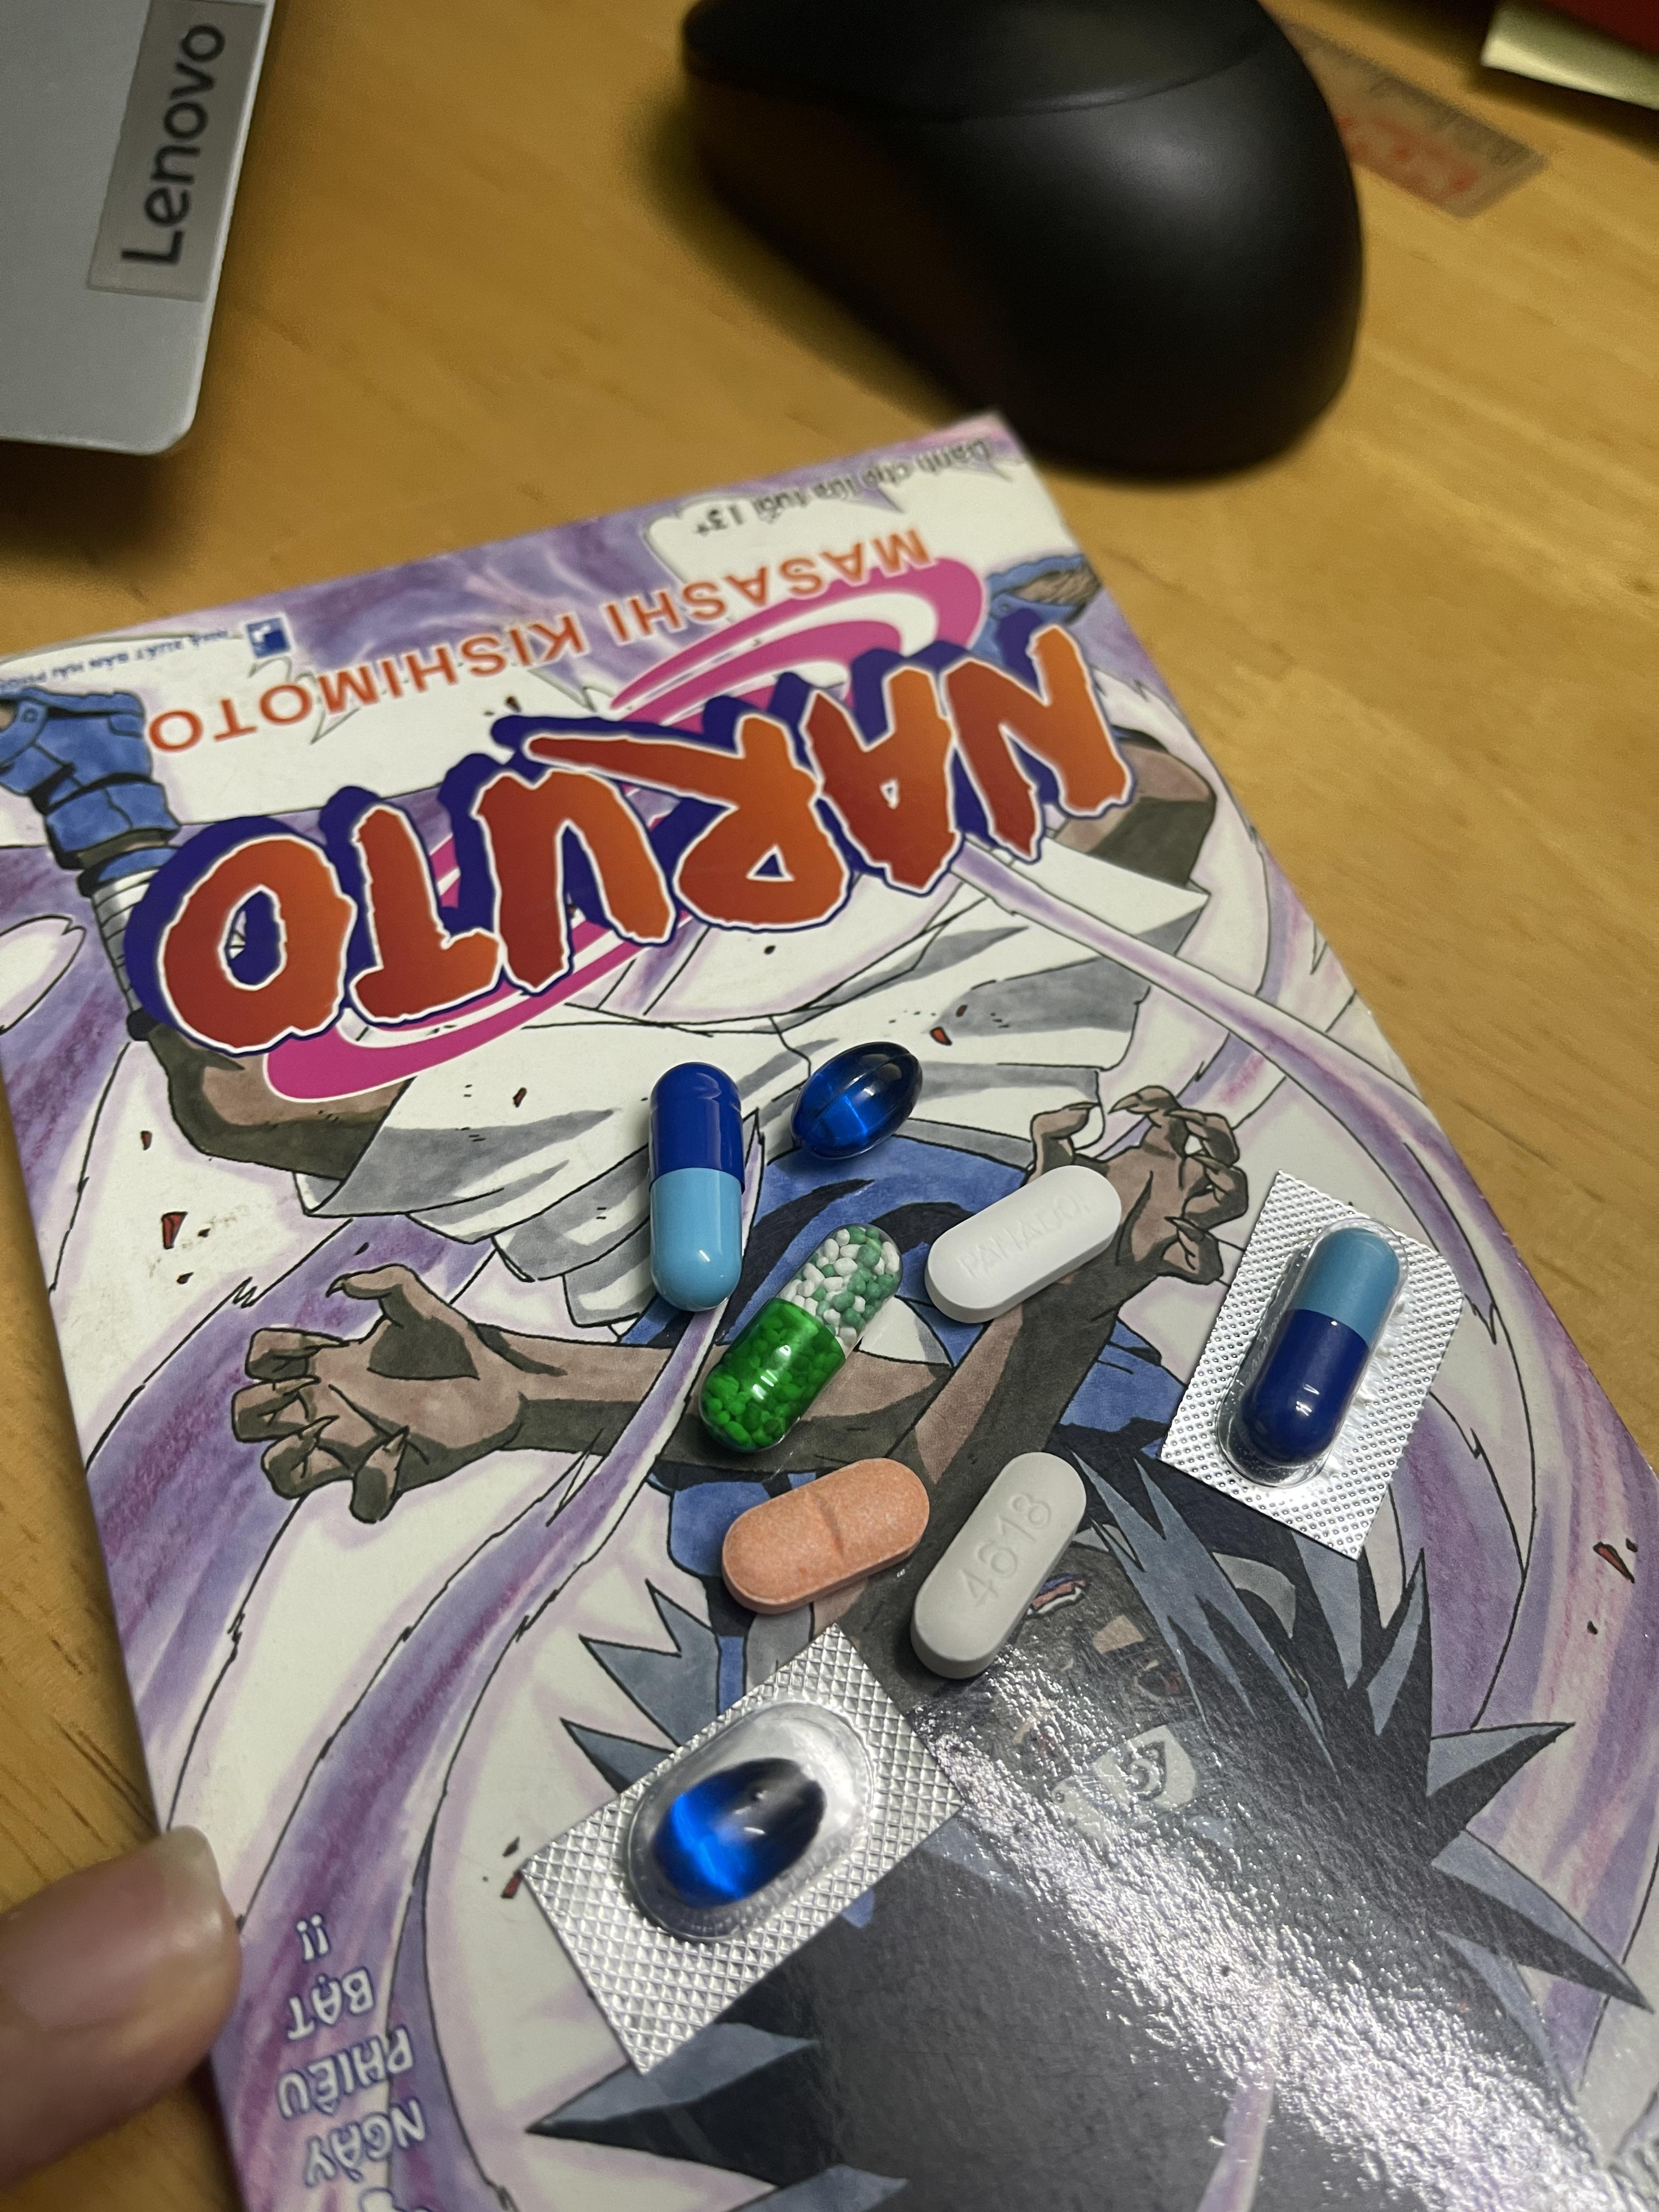Lincomyxin_500mg: (662, 1759, 828, 1909), (788, 1042, 924, 1157)
Loratadine_10mg: (721, 1461, 927, 1609)
Paracetamol_350mg: (925, 1167, 1121, 1318)
Paracetamol_500mg: (911, 1451, 1087, 1681)
Paracetamol_650mg: (702, 1224, 904, 1451)
pill: (1236, 1228, 1399, 1468), (647, 1066, 739, 1305)
